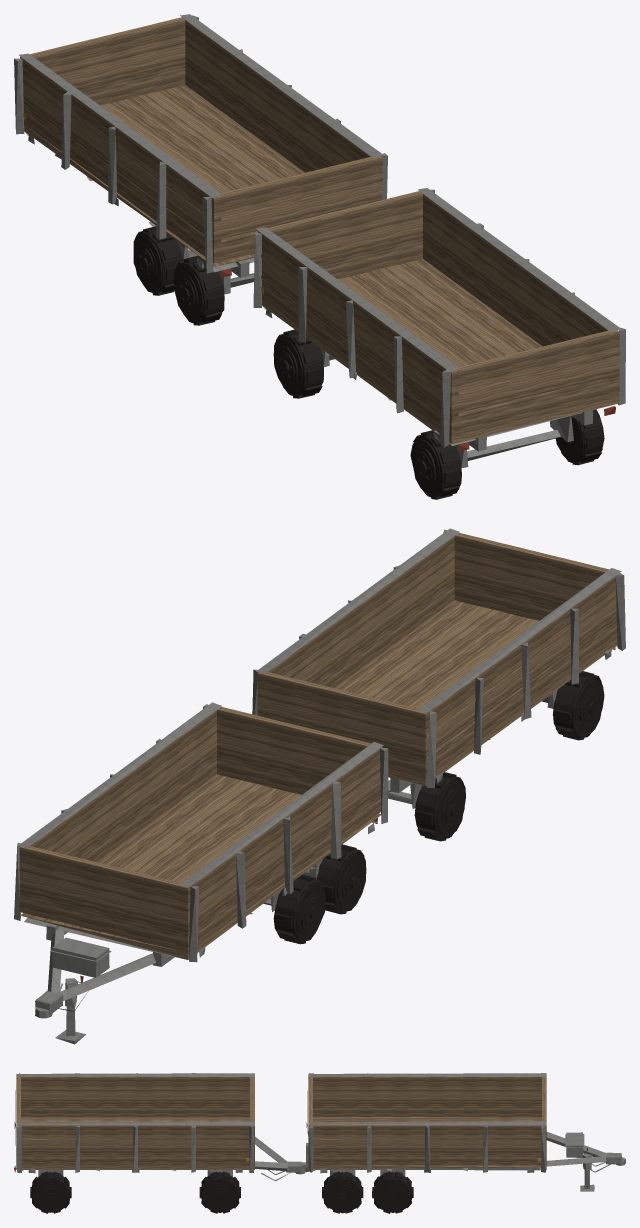
The model's file is double_trailer.glb.
The picture shows the model from 3 angles, top to bottom: view 1: azimuth 30°, elevation 25°; view 2: azimuth 150°, elevation 25°; view 3: azimuth 270°, elevation 25°; orthographic projection. The views are drawn at different scales.
Parts seen in each view (by area): view 1: DoubleTrailer, Tailgate2, Tailgate, Wheel_L2, Wheel_L3, Wheel_L4, Wheel_L1, Wheel_R4; view 2: DoubleTrailer, Tailgate2, Tailgate, Wheel_L1, Wheel_L4, Wheel_L3, Wheel_L2; view 3: DoubleTrailer, Wheel_R2, Wheel_R4, Wheel_R3, Wheel_R1, Coupler, Tailgate, Tailgate2.
Part boxes in pixels (x1,y1,x2,y2): DoubleTrailer: [14, 14, 625, 468]; Tailgate2: [456, 330, 612, 435]; Tailgate: [219, 157, 375, 261]; Wheel_L2: [173, 255, 224, 325]; Wheel_L3: [273, 329, 323, 398]; Wheel_L4: [410, 430, 461, 499]; Wheel_L1: [133, 226, 183, 295]; Wheel_R4: [555, 409, 604, 465]; DoubleTrailer: [14, 528, 625, 1044]; Tailgate2: [454, 533, 608, 620]; Tailgate: [217, 707, 371, 794]; Wheel_L1: [273, 874, 325, 944]; Wheel_L4: [552, 671, 604, 740]; Wheel_L3: [414, 772, 465, 841]; Wheel_L2: [316, 844, 366, 914]; DoubleTrailer: [14, 1073, 610, 1191]; Wheel_R2: [322, 1171, 363, 1213]; Wheel_R4: [30, 1171, 71, 1213]; Wheel_R3: [199, 1171, 240, 1213]; Wheel_R1: [372, 1171, 413, 1213]; Coupler: [606, 1152, 625, 1165]; Tailgate: [308, 1077, 312, 1122]; Tailgate2: [16, 1077, 20, 1122].
Size of the model in its own units: 2.3 by 1.8 by 10.92.
Materials: 5 (4 with a texture image).
